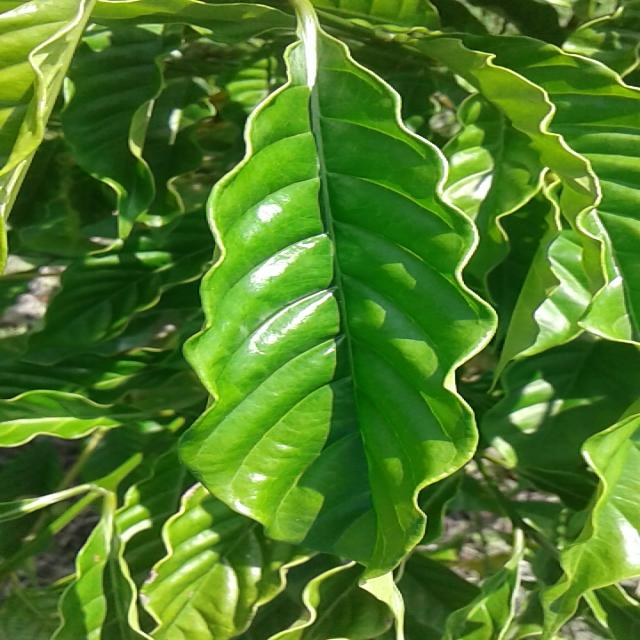Sanas: (178, 0, 498, 582)
